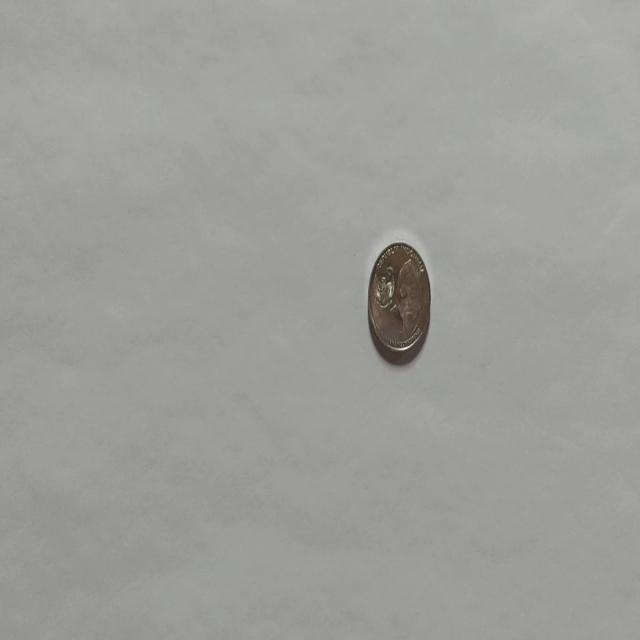dua ratus rupiah: (366, 239, 432, 363)
